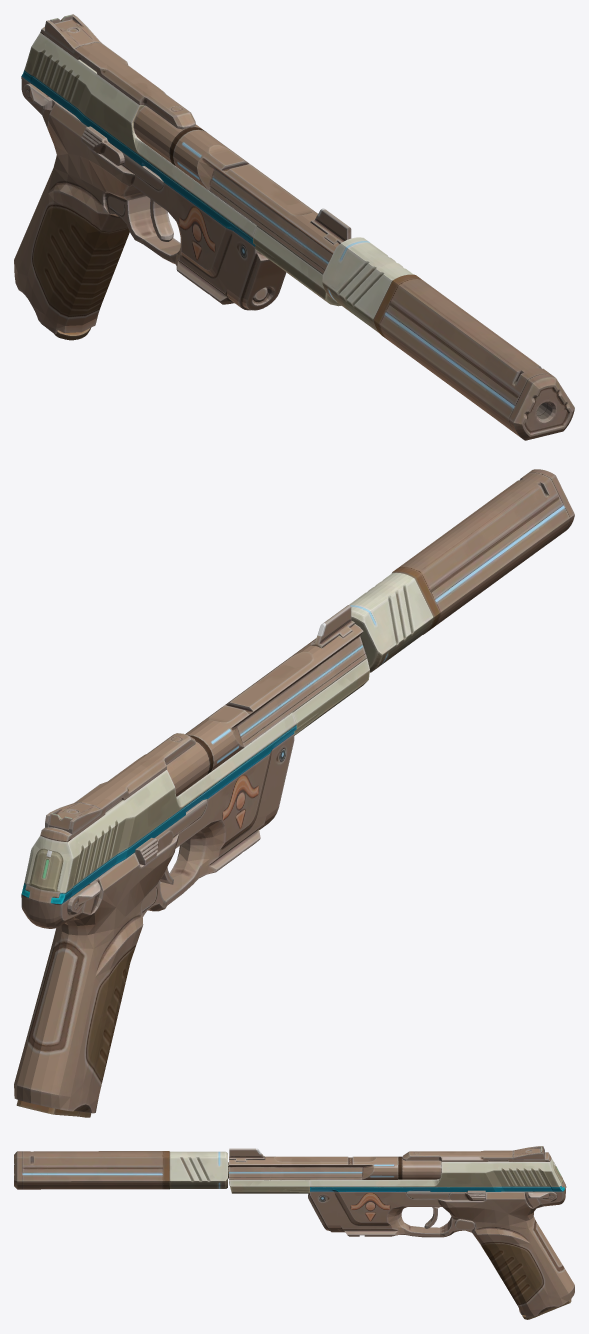
Rendered from ghost.glb.
3 renders of one model, top to bottom at view 1: azimuth 30°, elevation 25°; view 2: azimuth 150°, elevation 25°; view 3: azimuth 270°, elevation 25°, orthographic. The views are drawn at different scales.
Visible parts, largest first — view 1: Object_4, Object_9; view 2: Object_4, Object_9; view 3: Object_4, Object_9.
Boxes of the visible parts, x1,y1,x2,y2 form: Object_4: (14,14,351,340); Object_9: (322,237,574,440); Object_4: (14,605,369,1117); Object_9: (349,469,574,672); Object_4: (229,1146,574,1319); Object_9: (14,1151,228,1189).
Size of the model in its own units: 0.0285 by 0.1325 by 0.4.
Materials: 3 (2 with a texture image).
